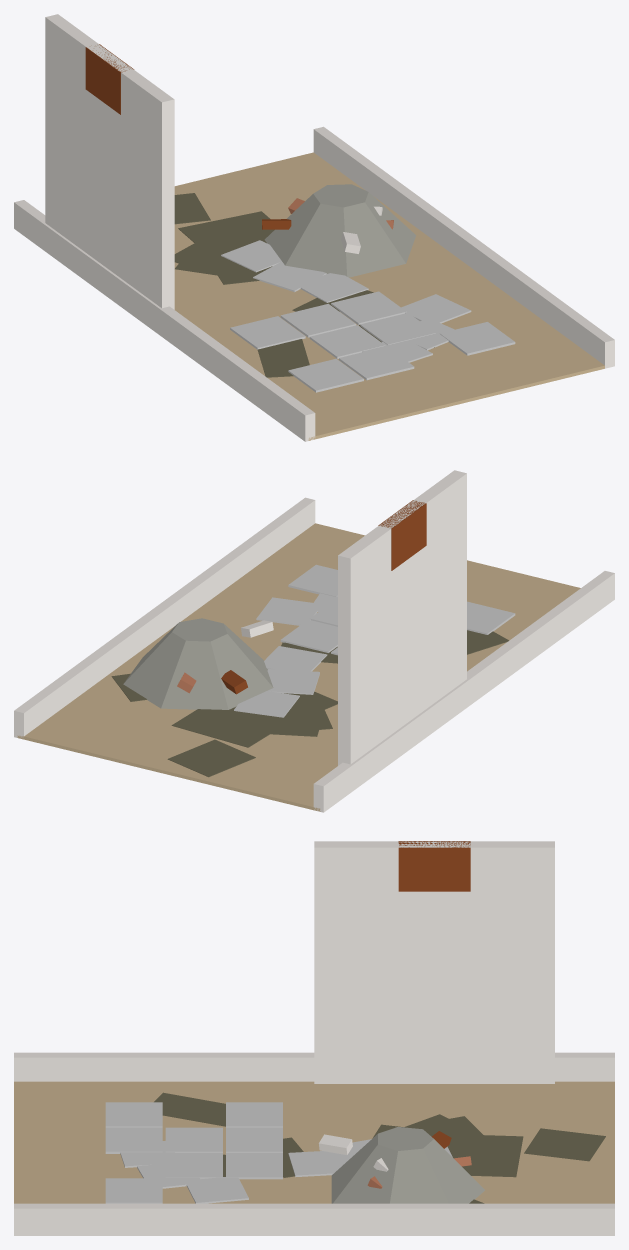
Rendered from SM_Solar_v1_Medianera_LOD0.fbx.
The picture shows the model from 3 angles, top to bottom: view 1: azimuth 30°, elevation 25°; view 2: azimuth 150°, elevation 25°; view 3: azimuth 270°, elevation 25°; orthographic projection. The views are drawn at different scales.
Visible parts, largest first — view 1: SM_sagunto_vivo_v6_LOD0; view 2: SM_sagunto_vivo_v6_LOD0; view 3: SM_sagunto_vivo_v6_LOD0.
Part boxes in pixels (x1,y1,x2,y2): SM_sagunto_vivo_v6_LOD0: [14, 14, 614, 441]; SM_sagunto_vivo_v6_LOD0: [14, 470, 614, 812]; SM_sagunto_vivo_v6_LOD0: [14, 841, 614, 1235].
Size of the model in its own units: 6.14 by 4.4 by 10.
